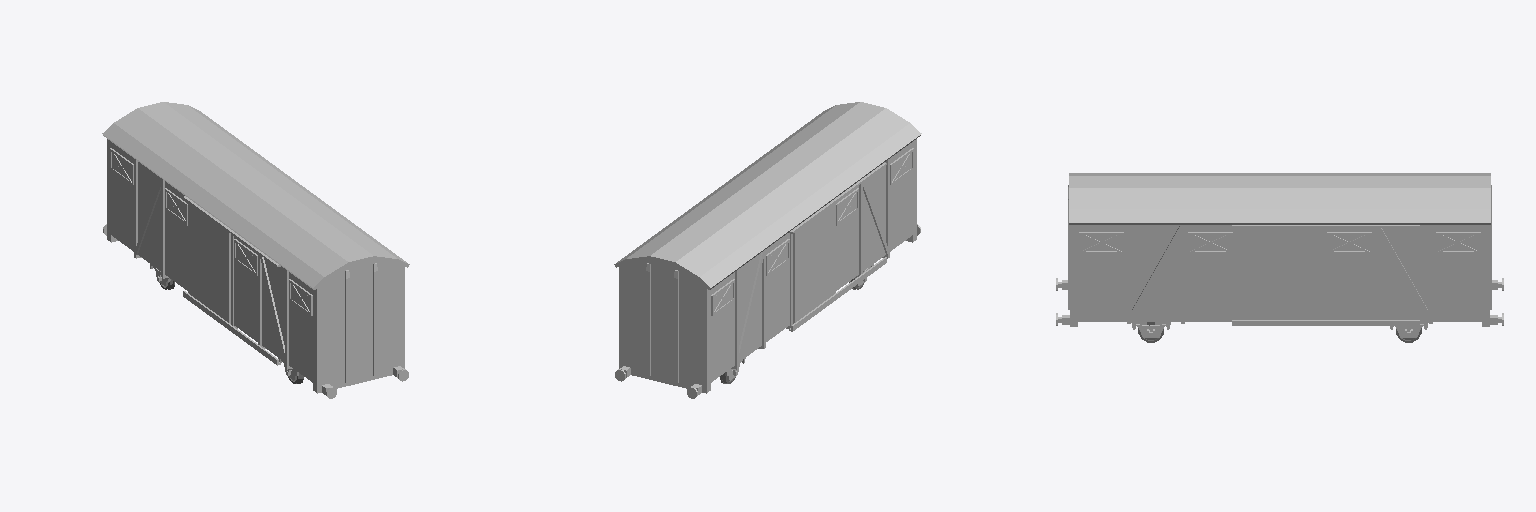
The model's file is dlxtrains_industrial_wagons_covered_goods_type3.obj.
3 views of the same model, side by side, from view 1: azimuth 30°, elevation 25°; view 2: azimuth 150°, elevation 25°; view 3: azimuth 270°, elevation 25° (orthographic).
Visible parts, largest first — view 1: dlxtrains_industrial_wagons_covered_goods_type3; view 2: dlxtrains_industrial_wagons_covered_goods_type3; view 3: dlxtrains_industrial_wagons_covered_goods_type3.
Part boxes in pixels (left/top/right/bottom): dlxtrains_industrial_wagons_covered_goods_type3: left=102, top=102, right=409, bottom=398; dlxtrains_industrial_wagons_covered_goods_type3: left=614, top=102, right=921, bottom=398; dlxtrains_industrial_wagons_covered_goods_type3: left=1056, top=173, right=1503, bottom=342.
Bounding box in the file's own units: 17.5 × 25.36 × 69.62.